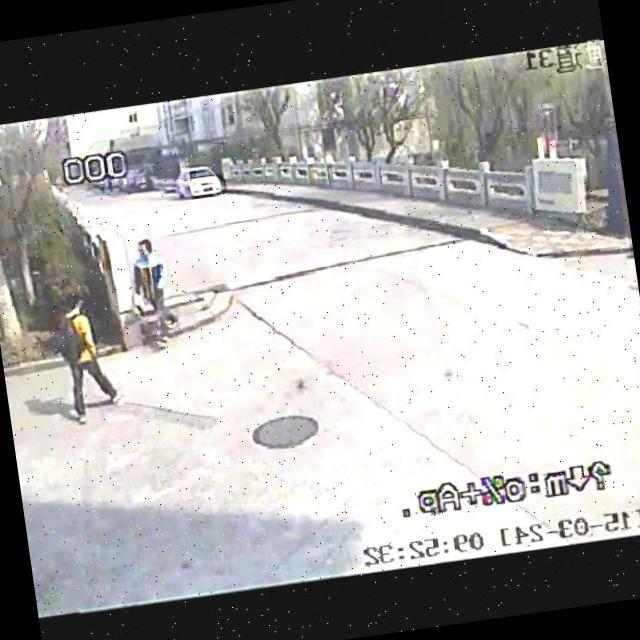person: (44, 278, 128, 428), (123, 233, 185, 355)
